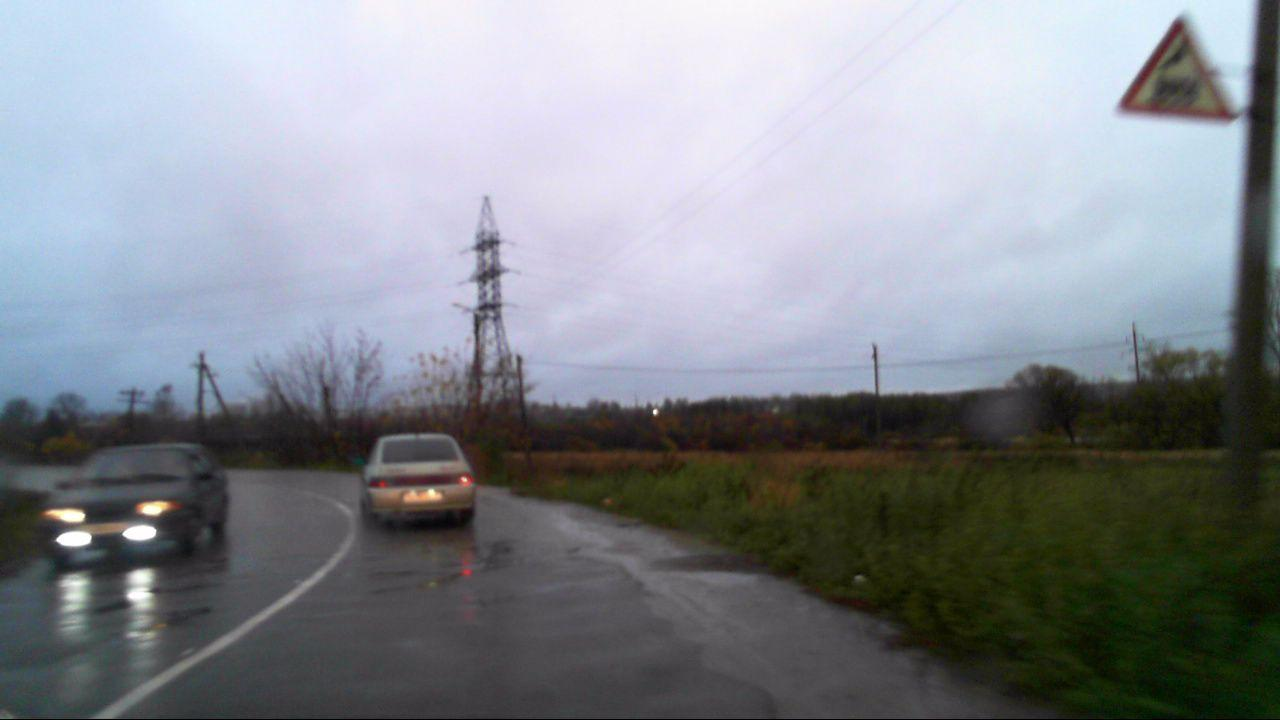1_2: (1114, 13, 1237, 126)
